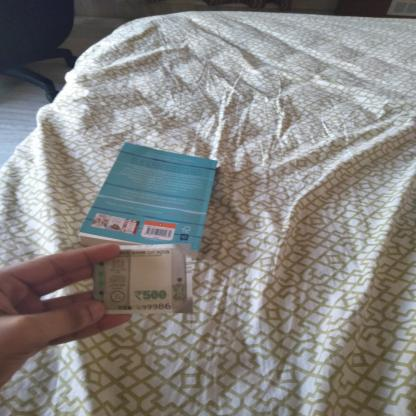New500Front: (90, 244, 193, 312)
